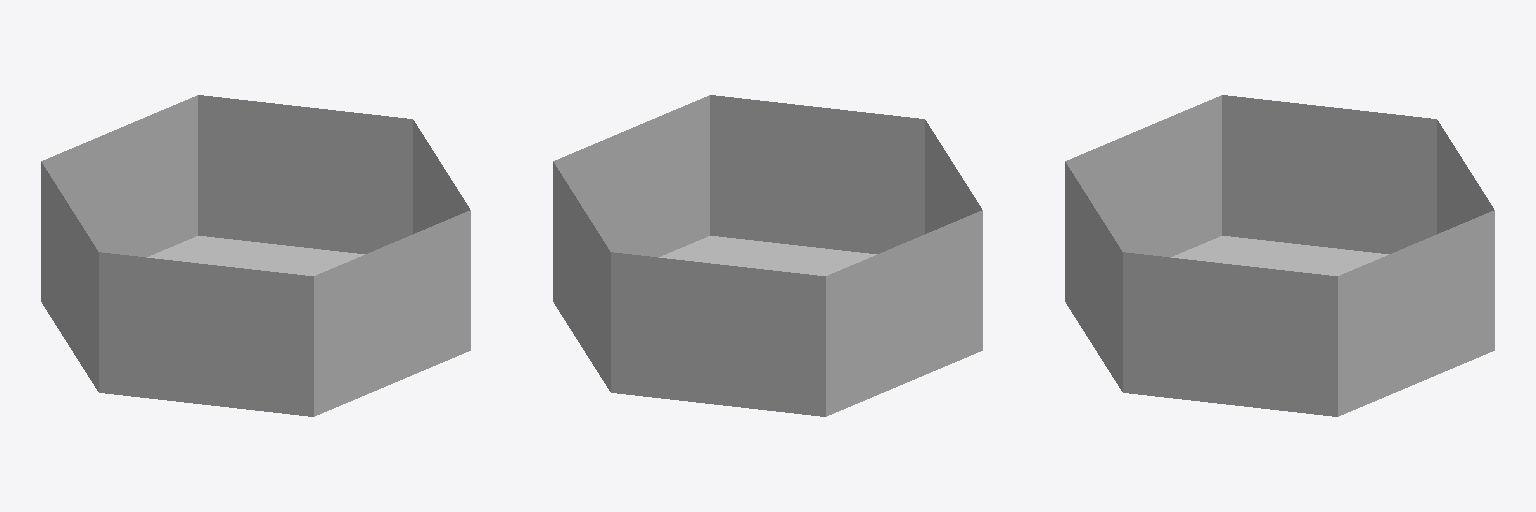
File: Hexagon_cube_bottle_rotated45_ext_preprocessed.obj
The picture shows the model from 3 angles: view 1: azimuth 30°, elevation 25°; view 2: azimuth 150°, elevation 25°; view 3: azimuth 270°, elevation 25°; orthographic projection.
Bounding box in the file's own units: 0.0692 × 0.025 × 0.0692.